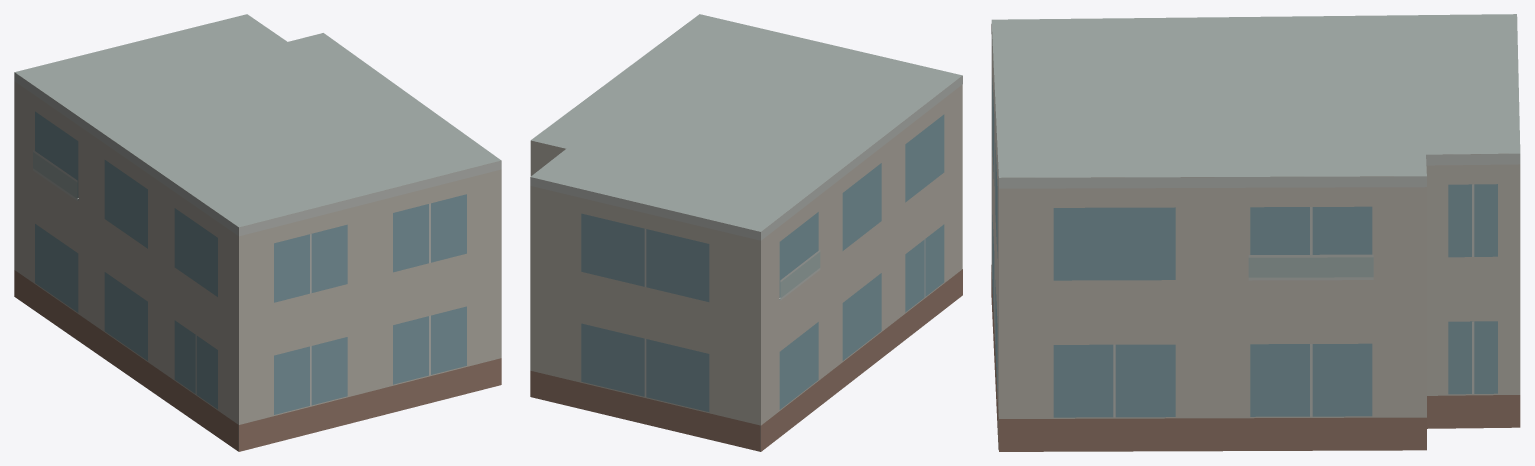
File: survey-upis-32597930.glb
3 views of the same model, side by side, from view 1: azimuth 30°, elevation 25°; view 2: azimuth 150°, elevation 25°; view 3: azimuth 270°, elevation 25° (orthographic). The views are drawn at different scales.
Visible parts, largest first — view 1: survey-upis-32597930.tmp; view 2: survey-upis-32597930.tmp; view 3: survey-upis-32597930.tmp.
Part boxes in pixels (x1=…): survey-upis-32597930.tmp: x1=14, y1=14, x2=501, y2=451; survey-upis-32597930.tmp: x1=530, y1=14, x2=962, y2=451; survey-upis-32597930.tmp: x1=991, y1=14, x2=1520, y2=451.
Bounding box in the file's own units: 7.84 × 6.1 × 10.68.
